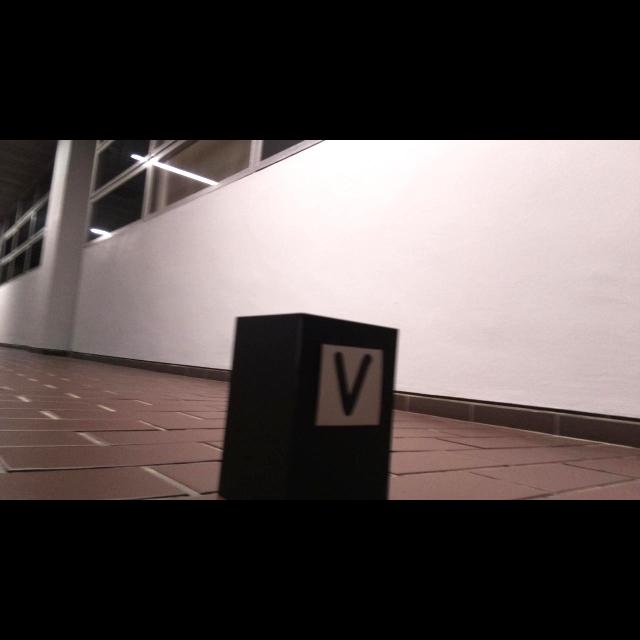V: (335, 350, 373, 414)
